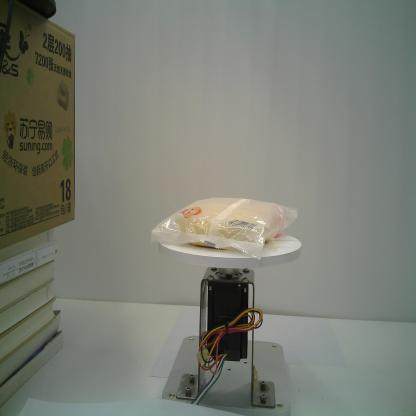Dessert: (150, 196, 298, 260)
